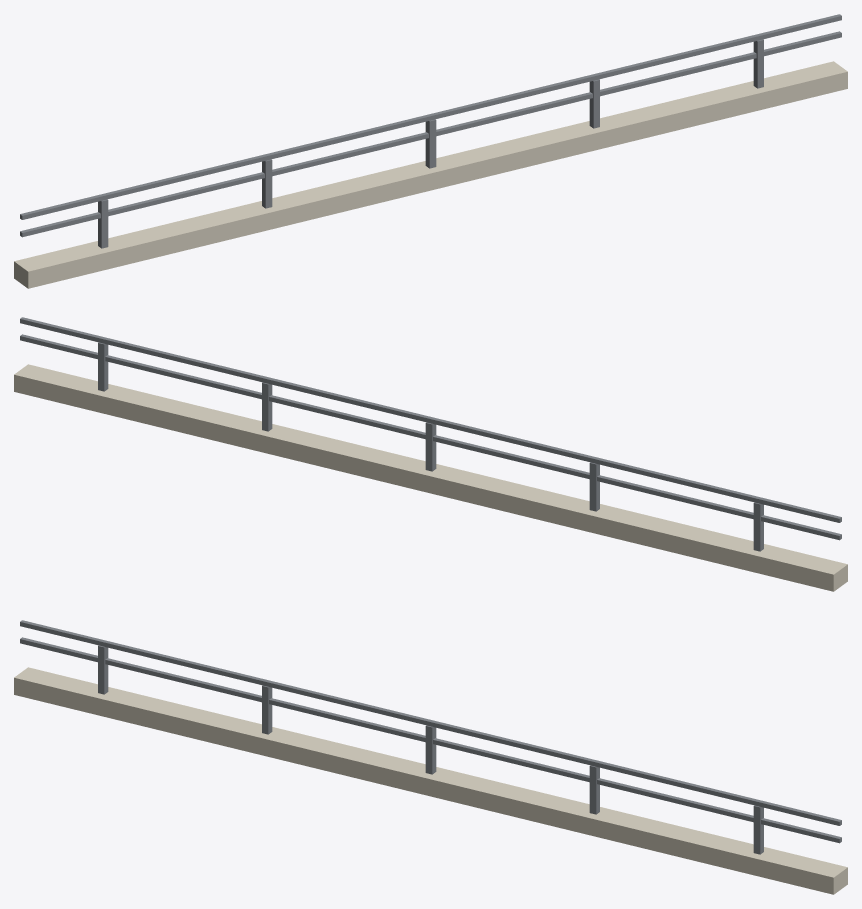
Rendered from road.parapet-guardrail.glb.
The picture shows the model from 3 angles, top to bottom: view 1: azimuth 30°, elevation 25°; view 2: azimuth 150°, elevation 25°; view 3: azimuth 330°, elevation 25°; orthographic projection.
Visible parts, largest first — view 1: road.parapet-guardrail; view 2: road.parapet-guardrail; view 3: road.parapet-guardrail.
Boxes of the visible parts, x1,y1,x2,y2 form: road.parapet-guardrail: [14, 14, 847, 288]; road.parapet-guardrail: [14, 317, 847, 591]; road.parapet-guardrail: [14, 620, 847, 894].
Size of the model in its own units: 10 by 0.8 by 0.3.
